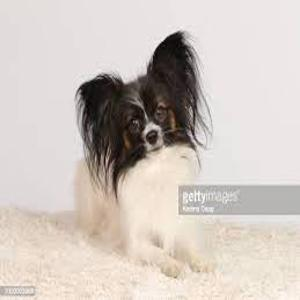yell: (74, 29, 216, 275)
